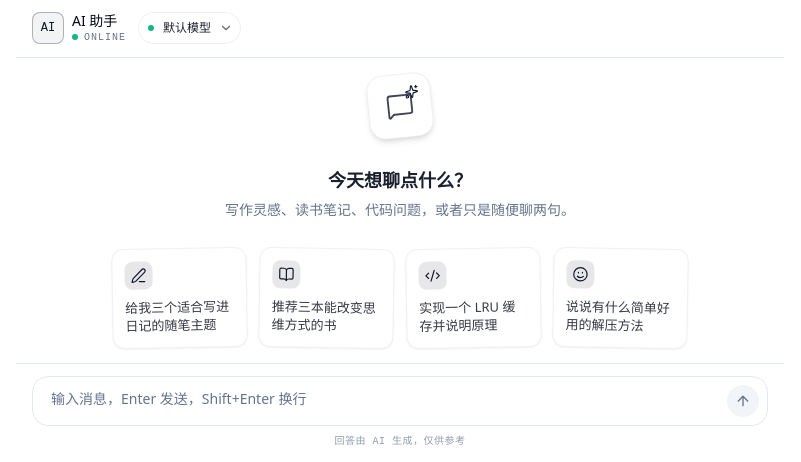
Test: AssistantChat › 流式中点停止 → 调真实 stop 端点并标记已停止
Type "hi" into the text box named "消息输入".
click(384, 401); type("hi")  # box [49,385,719,417]
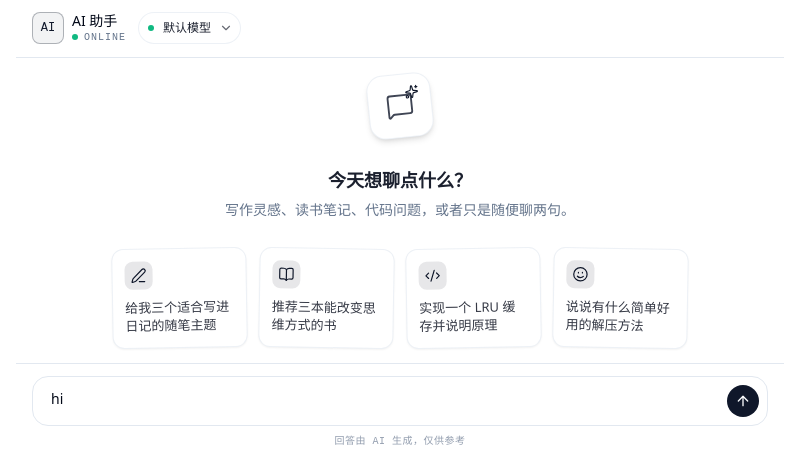
Click the button named "发送".
click(743, 401)  # box [727,385,759,417]
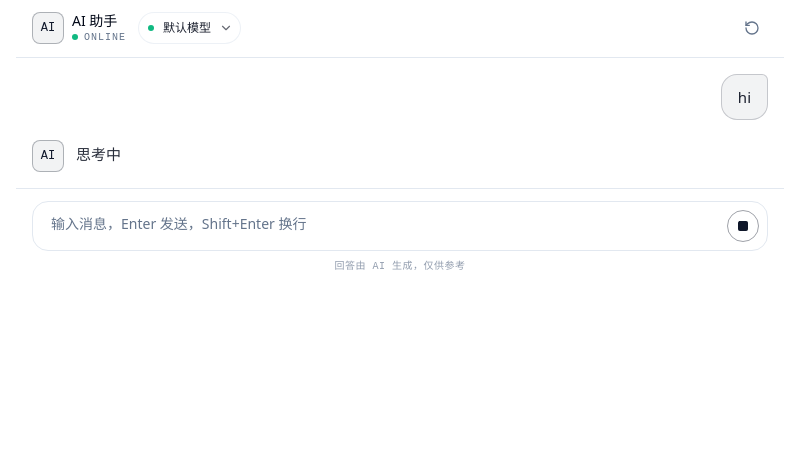
Click the button named "停止生成".
click(743, 226)  # box [727,210,759,242]
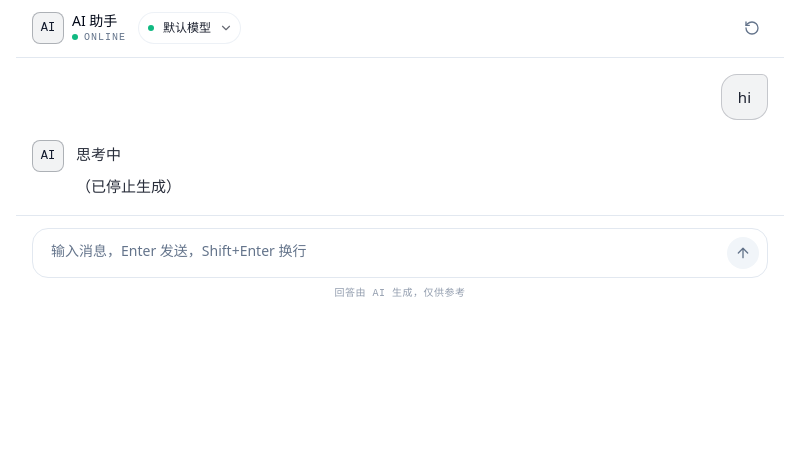
Expected: the text "（已停止生成）" is shown, [76,176,181,196]
